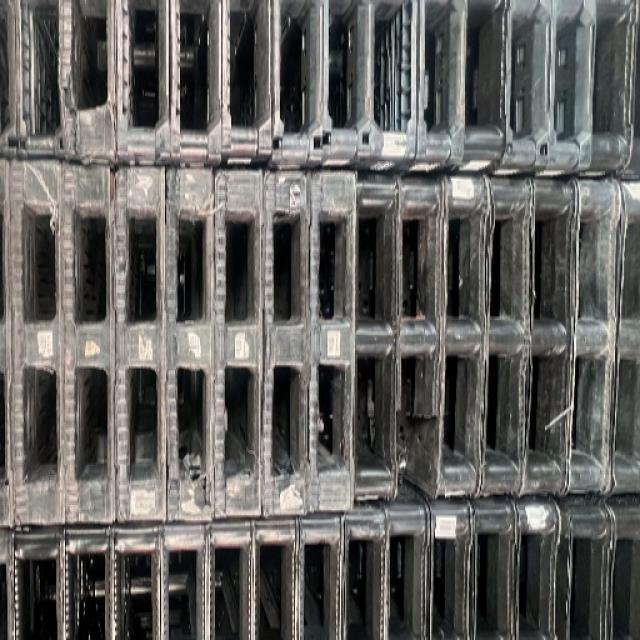igps: (55, 155, 122, 532), (108, 156, 172, 535), (158, 162, 222, 529), (204, 162, 268, 525), (15, 152, 71, 530), (259, 162, 316, 527), (306, 168, 362, 523), (436, 170, 490, 503), (352, 170, 402, 510), (569, 170, 619, 500), (482, 168, 529, 500), (396, 170, 436, 505), (526, 172, 566, 502), (576, 0, 640, 184), (114, 0, 177, 174), (607, 176, 640, 500), (60, 0, 122, 172), (164, 0, 225, 172), (218, 0, 276, 175), (269, 0, 326, 177), (0, 0, 65, 151), (458, 0, 510, 179), (368, 0, 419, 182), (318, 0, 371, 172), (542, 0, 592, 182), (415, 0, 464, 185), (506, 0, 555, 181), (0, 150, 21, 536), (557, 493, 611, 640), (384, 493, 431, 640), (427, 493, 472, 640), (514, 497, 559, 640), (113, 515, 164, 640), (205, 511, 254, 640), (341, 497, 384, 640), (470, 494, 512, 640), (298, 508, 344, 640), (15, 519, 65, 640), (250, 509, 296, 640), (65, 518, 111, 640), (162, 517, 207, 640), (608, 494, 638, 640), (0, 521, 14, 640)
